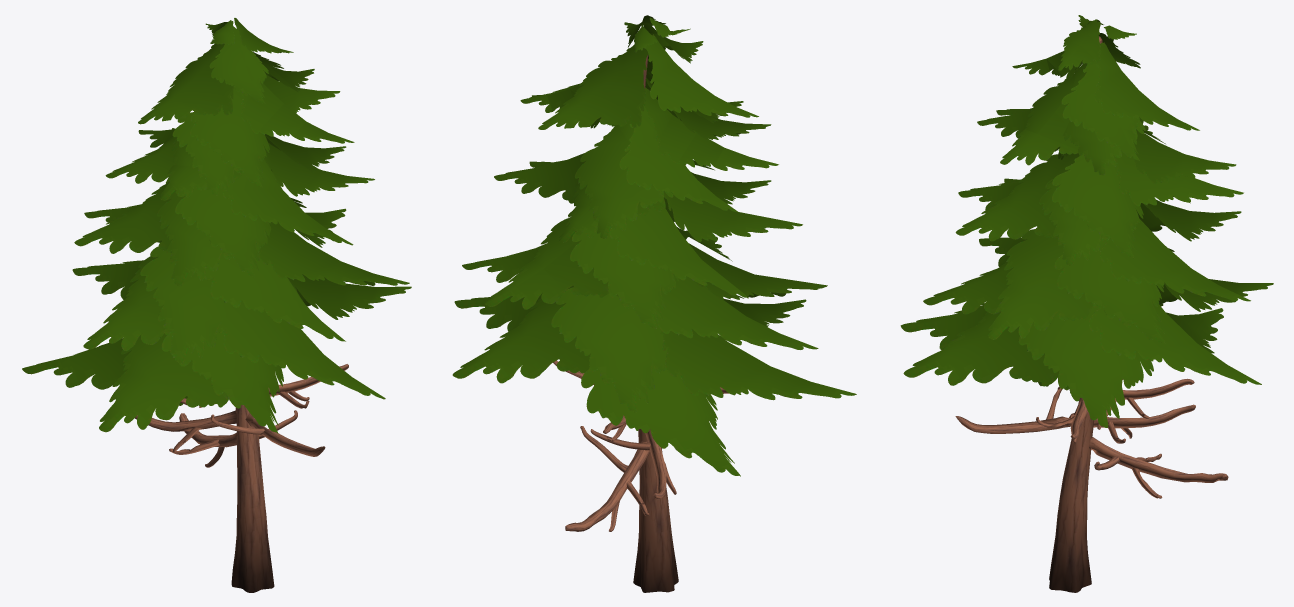
File: tree-pine-1.glb
3 views of the same model, side by side, from view 1: azimuth 30°, elevation 25°; view 2: azimuth 150°, elevation 25°; view 3: azimuth 270°, elevation 25° (orthographic). The views are drawn at different scales.
Visible parts, largest first — view 1: Pine_1; view 2: Pine_1; view 3: Pine_1.
Part boxes in pixels (x1,y1,x2,y2): Pine_1: [22, 18, 411, 592]; Pine_1: [452, 15, 856, 592]; Pine_1: [900, 15, 1273, 592].
Size of the model in its own units: 4.94 by 7.32 by 4.54.
2 materials, 2 textured.
